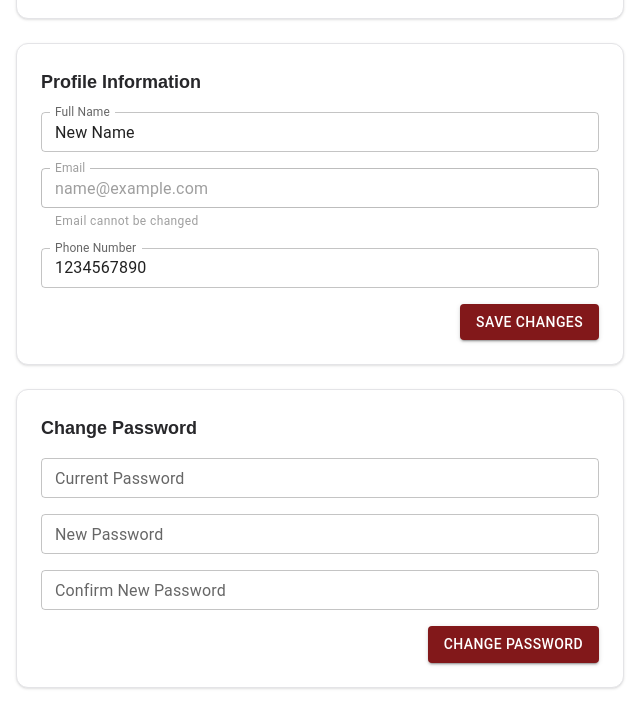
Scenario: Account Settings › intercepts password mismatches before hitting the server API
The image size is (641, 720).
(page scrolled)
Type "12345678" into the password field labelled "Current Password".
click(320, 478); type("12345678")  # box [41, 458, 599, 498]
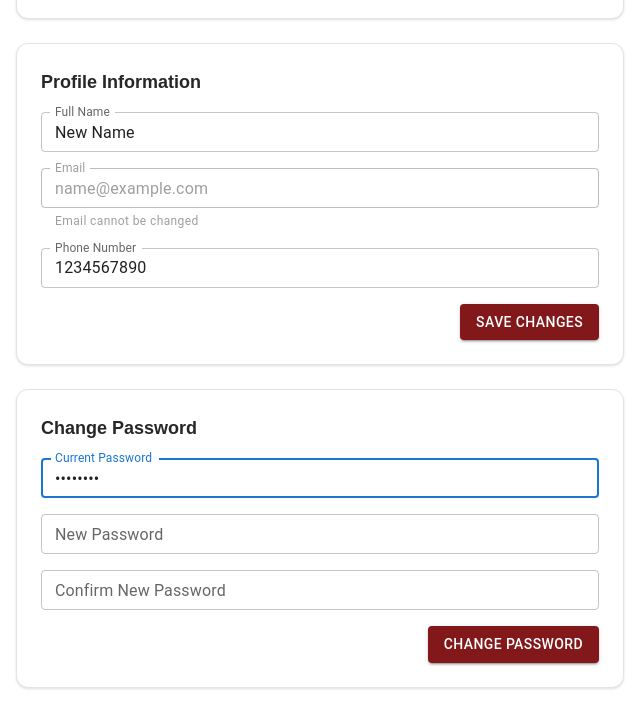
Type "new_password" into the password field labelled "New Password".
click(320, 534); type("new_password")  # box [41, 514, 599, 554]
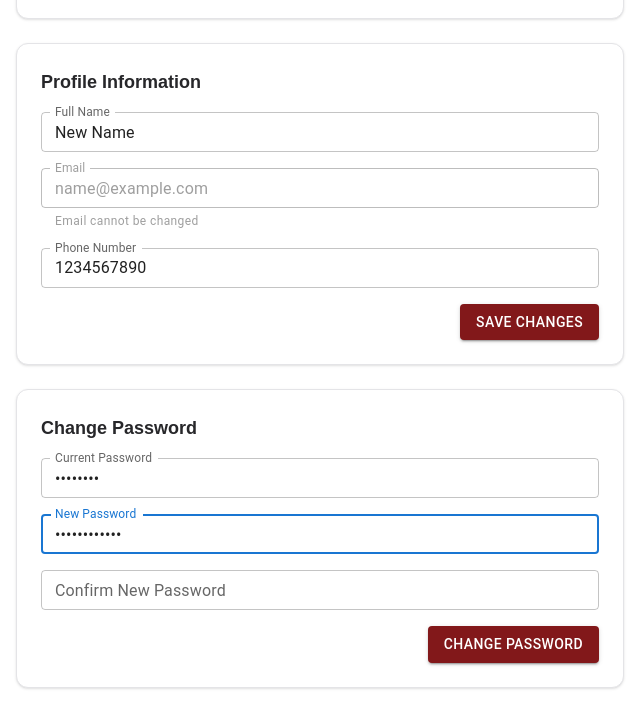
Type "wrong_match" into the password field labelled "Confirm New Password".
click(320, 590); type("wrong_match")  # box [41, 570, 599, 610]
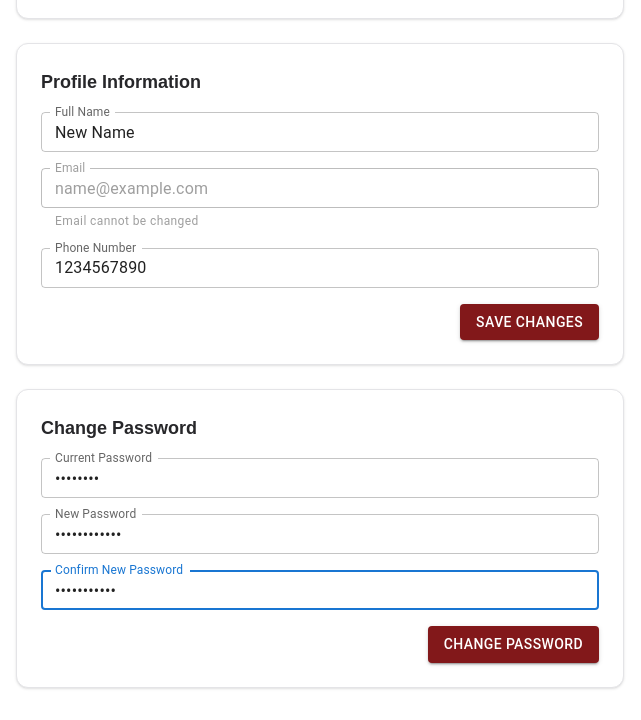
Click the button "Change Password".
click(513, 645)  # box [428, 626, 599, 663]
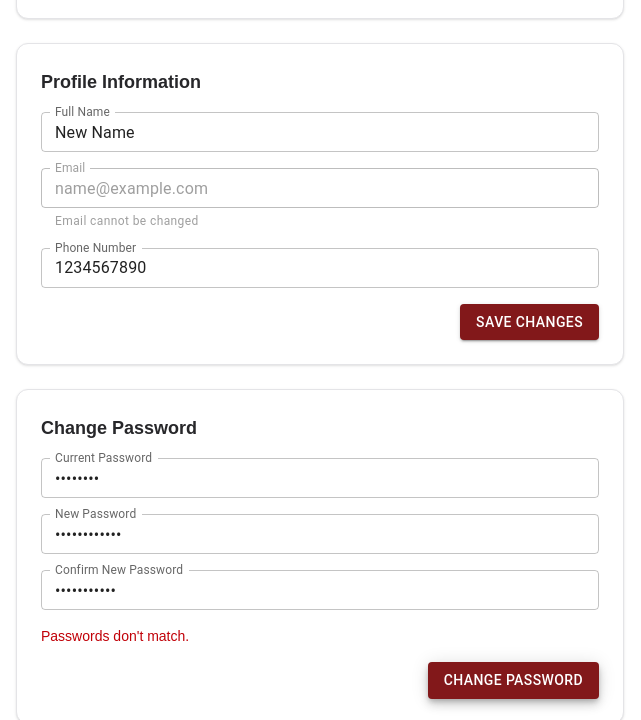
Now the text "Passwords don't match." is shown, box [41, 628, 189, 644]
